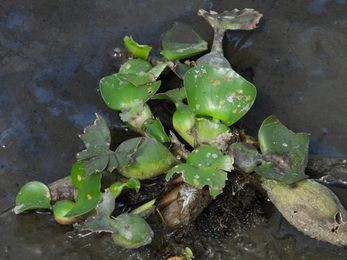water_hyacinth: (11, 2, 311, 247)
